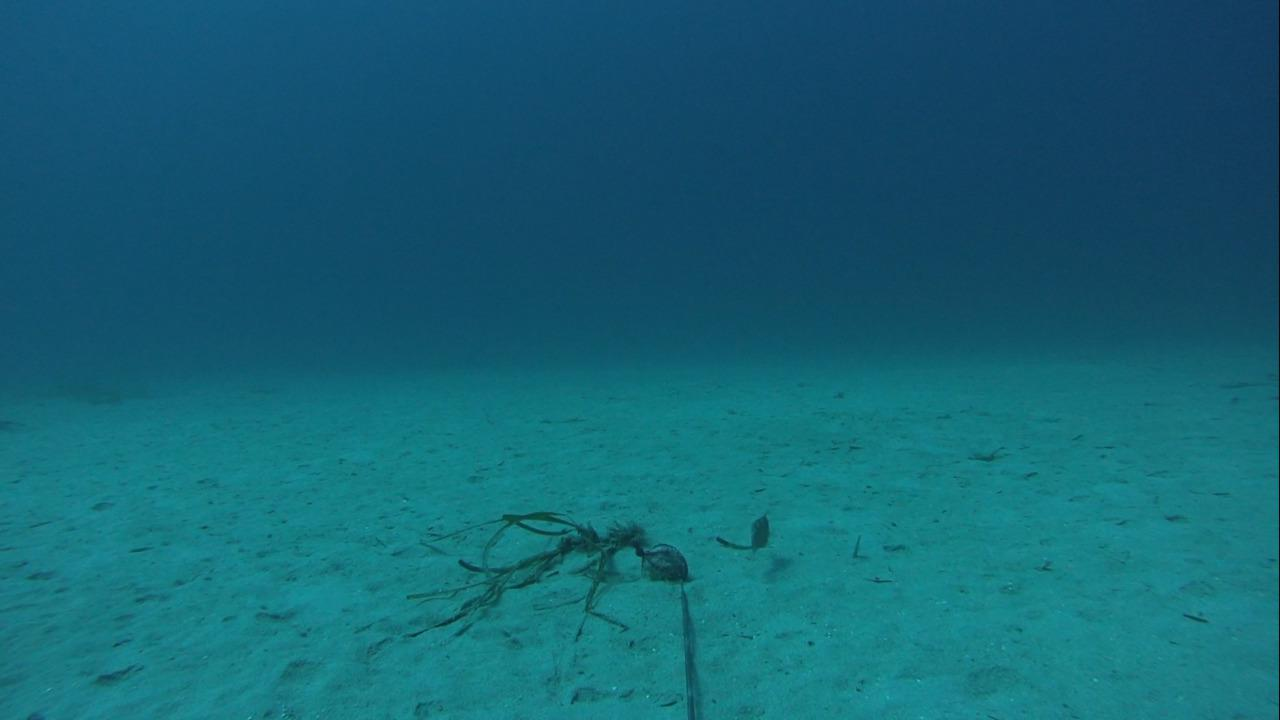raor: (743, 507, 773, 555)
